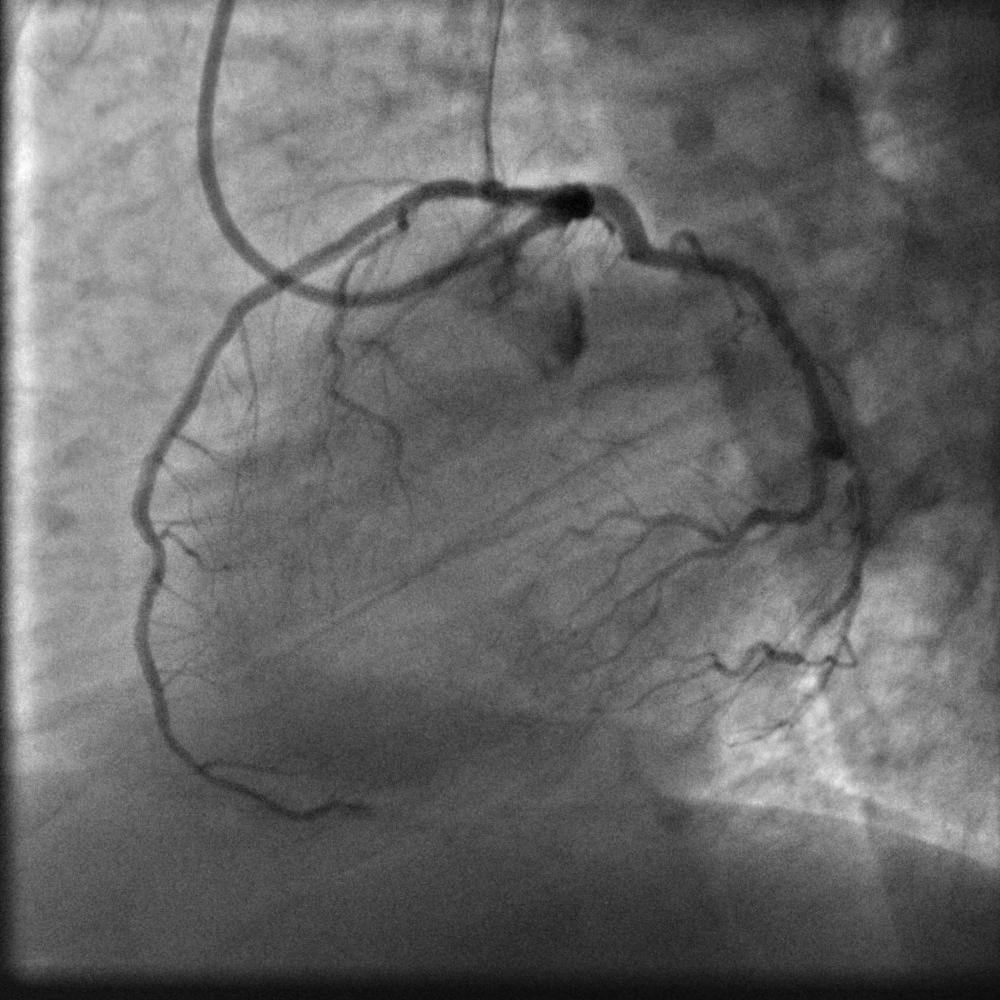Stenosis: (465, 176, 506, 205)
